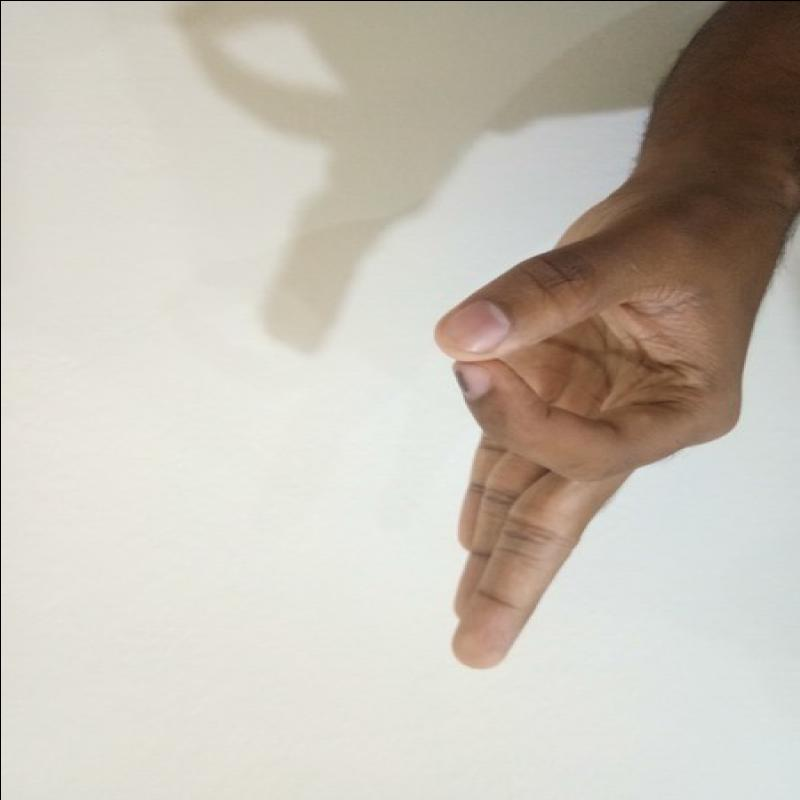Mudraakhyam: (409, 190, 774, 685)
